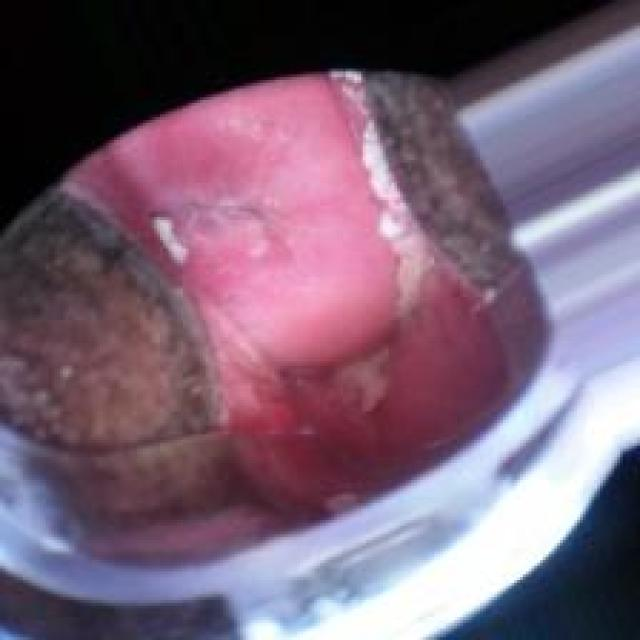type-3: (4, 102, 538, 598)
